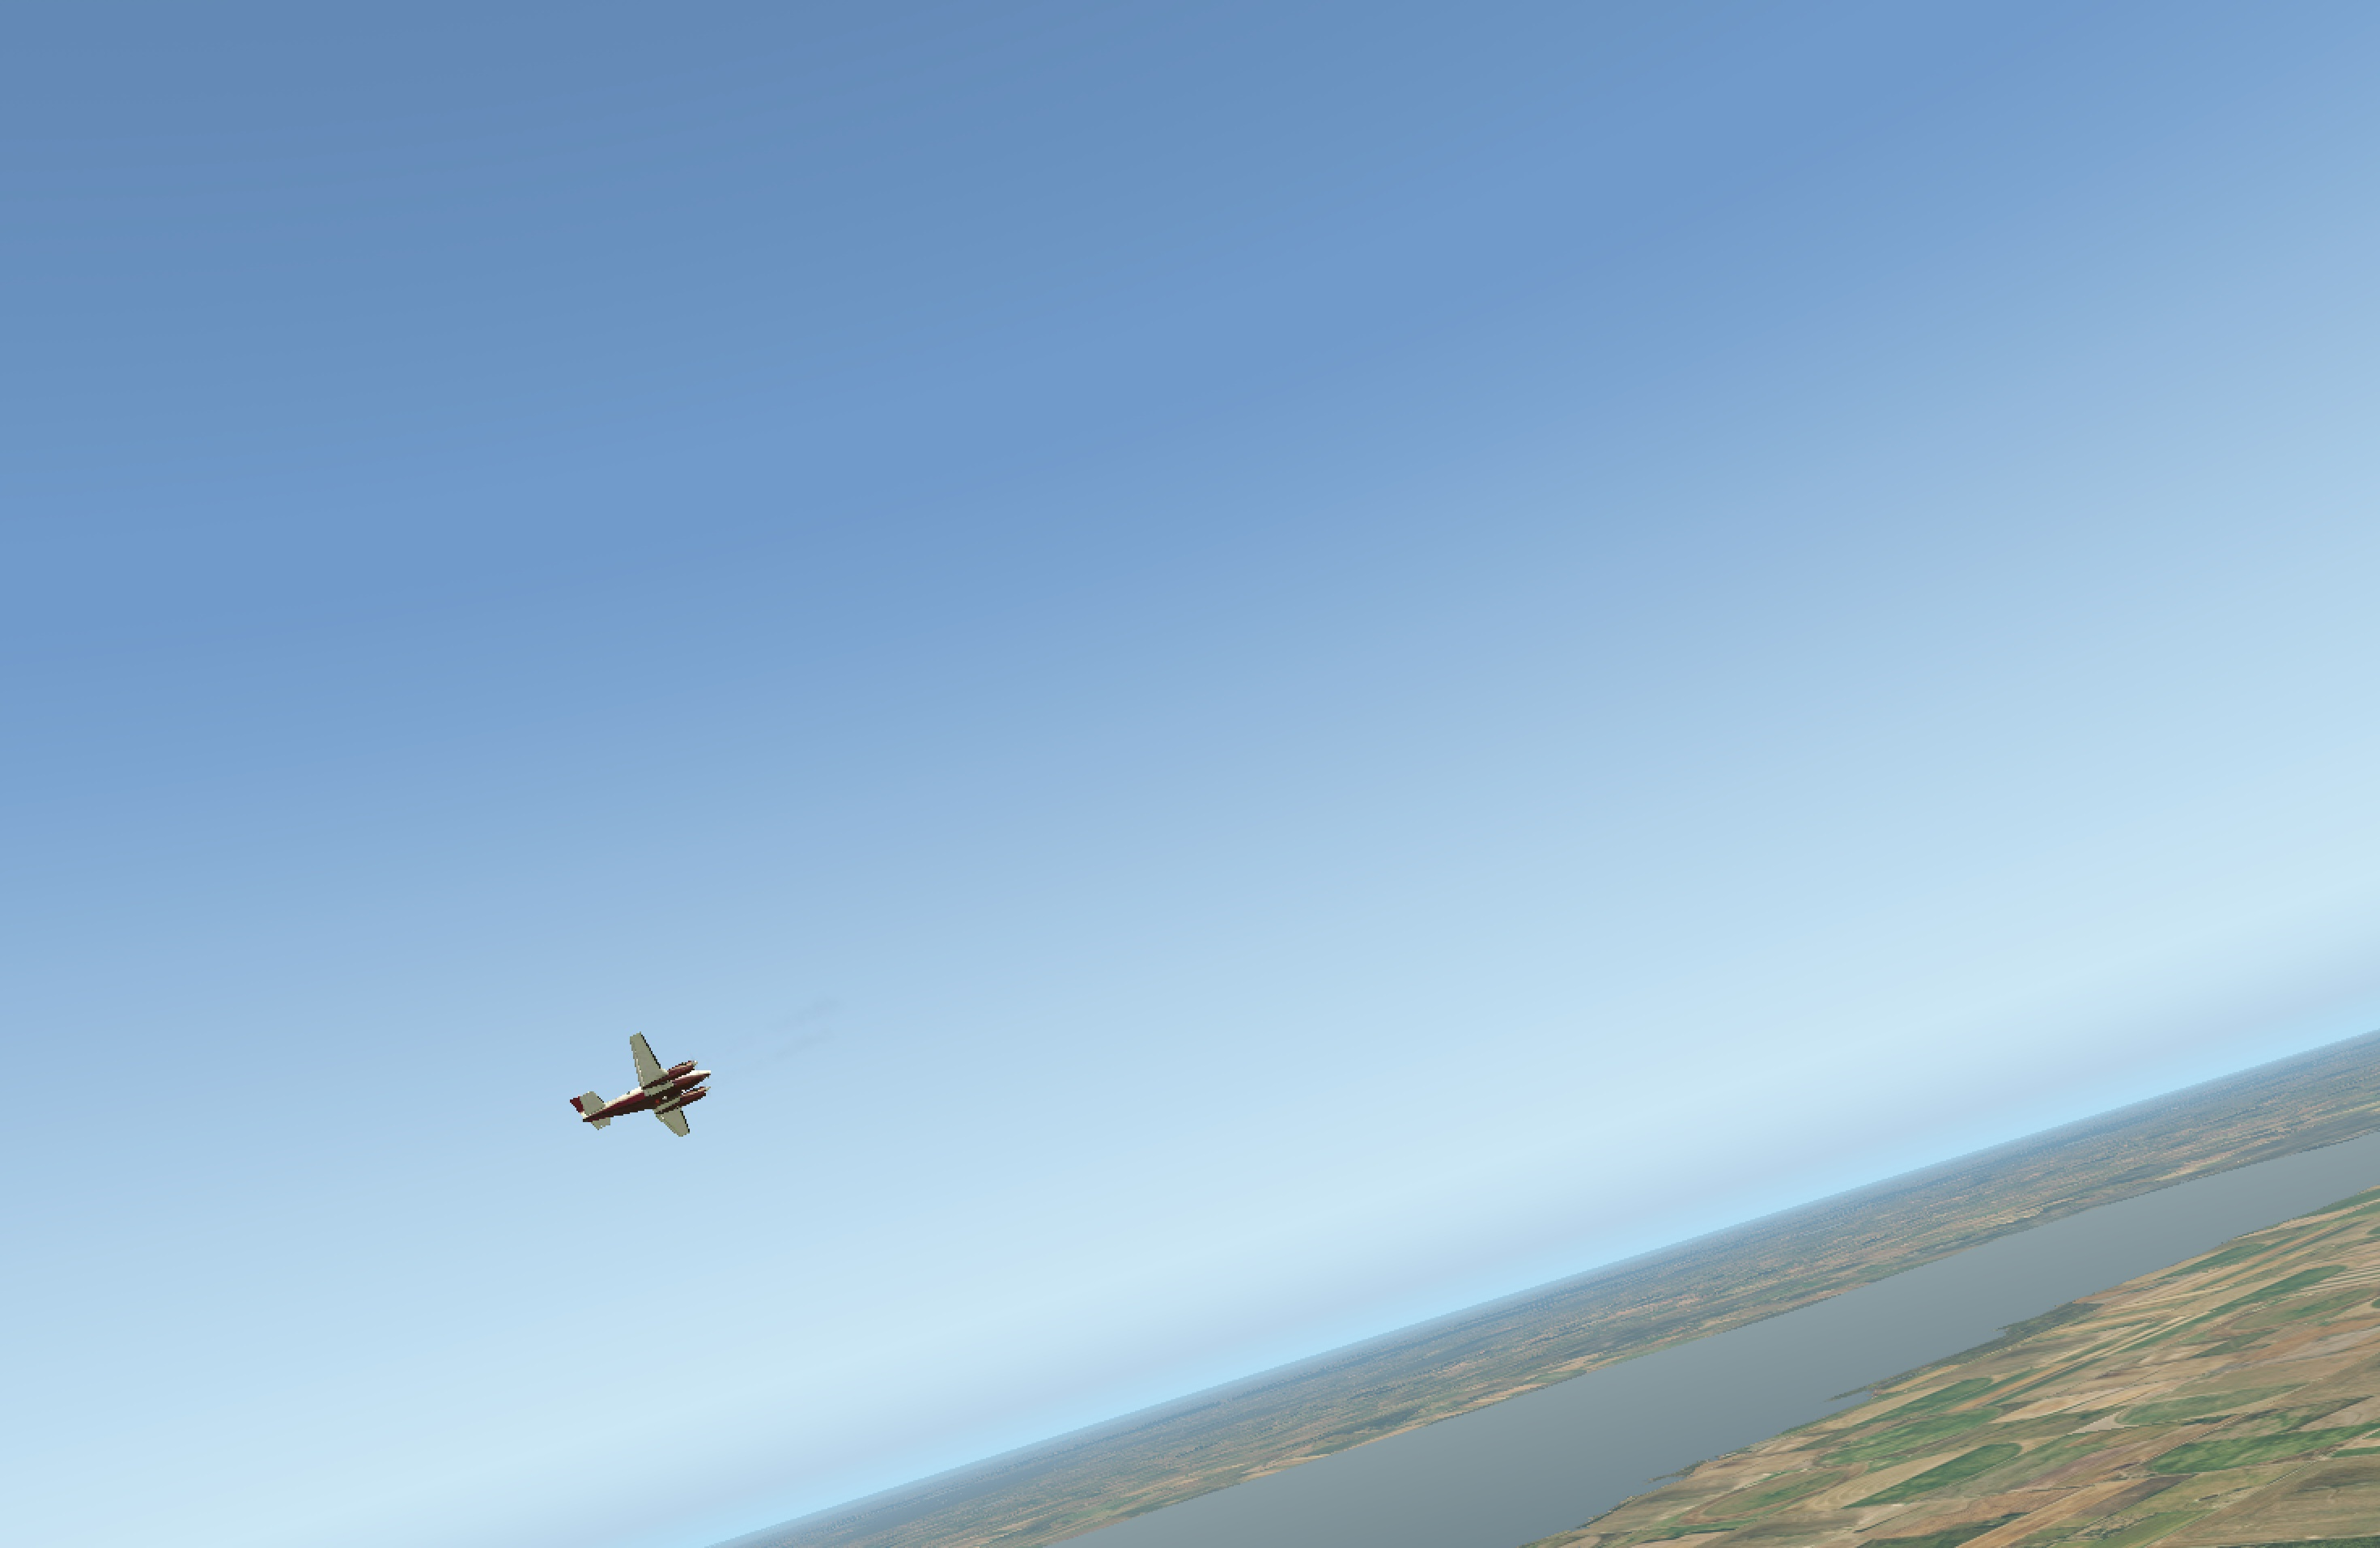aircraft: (574, 1057, 767, 1130)
